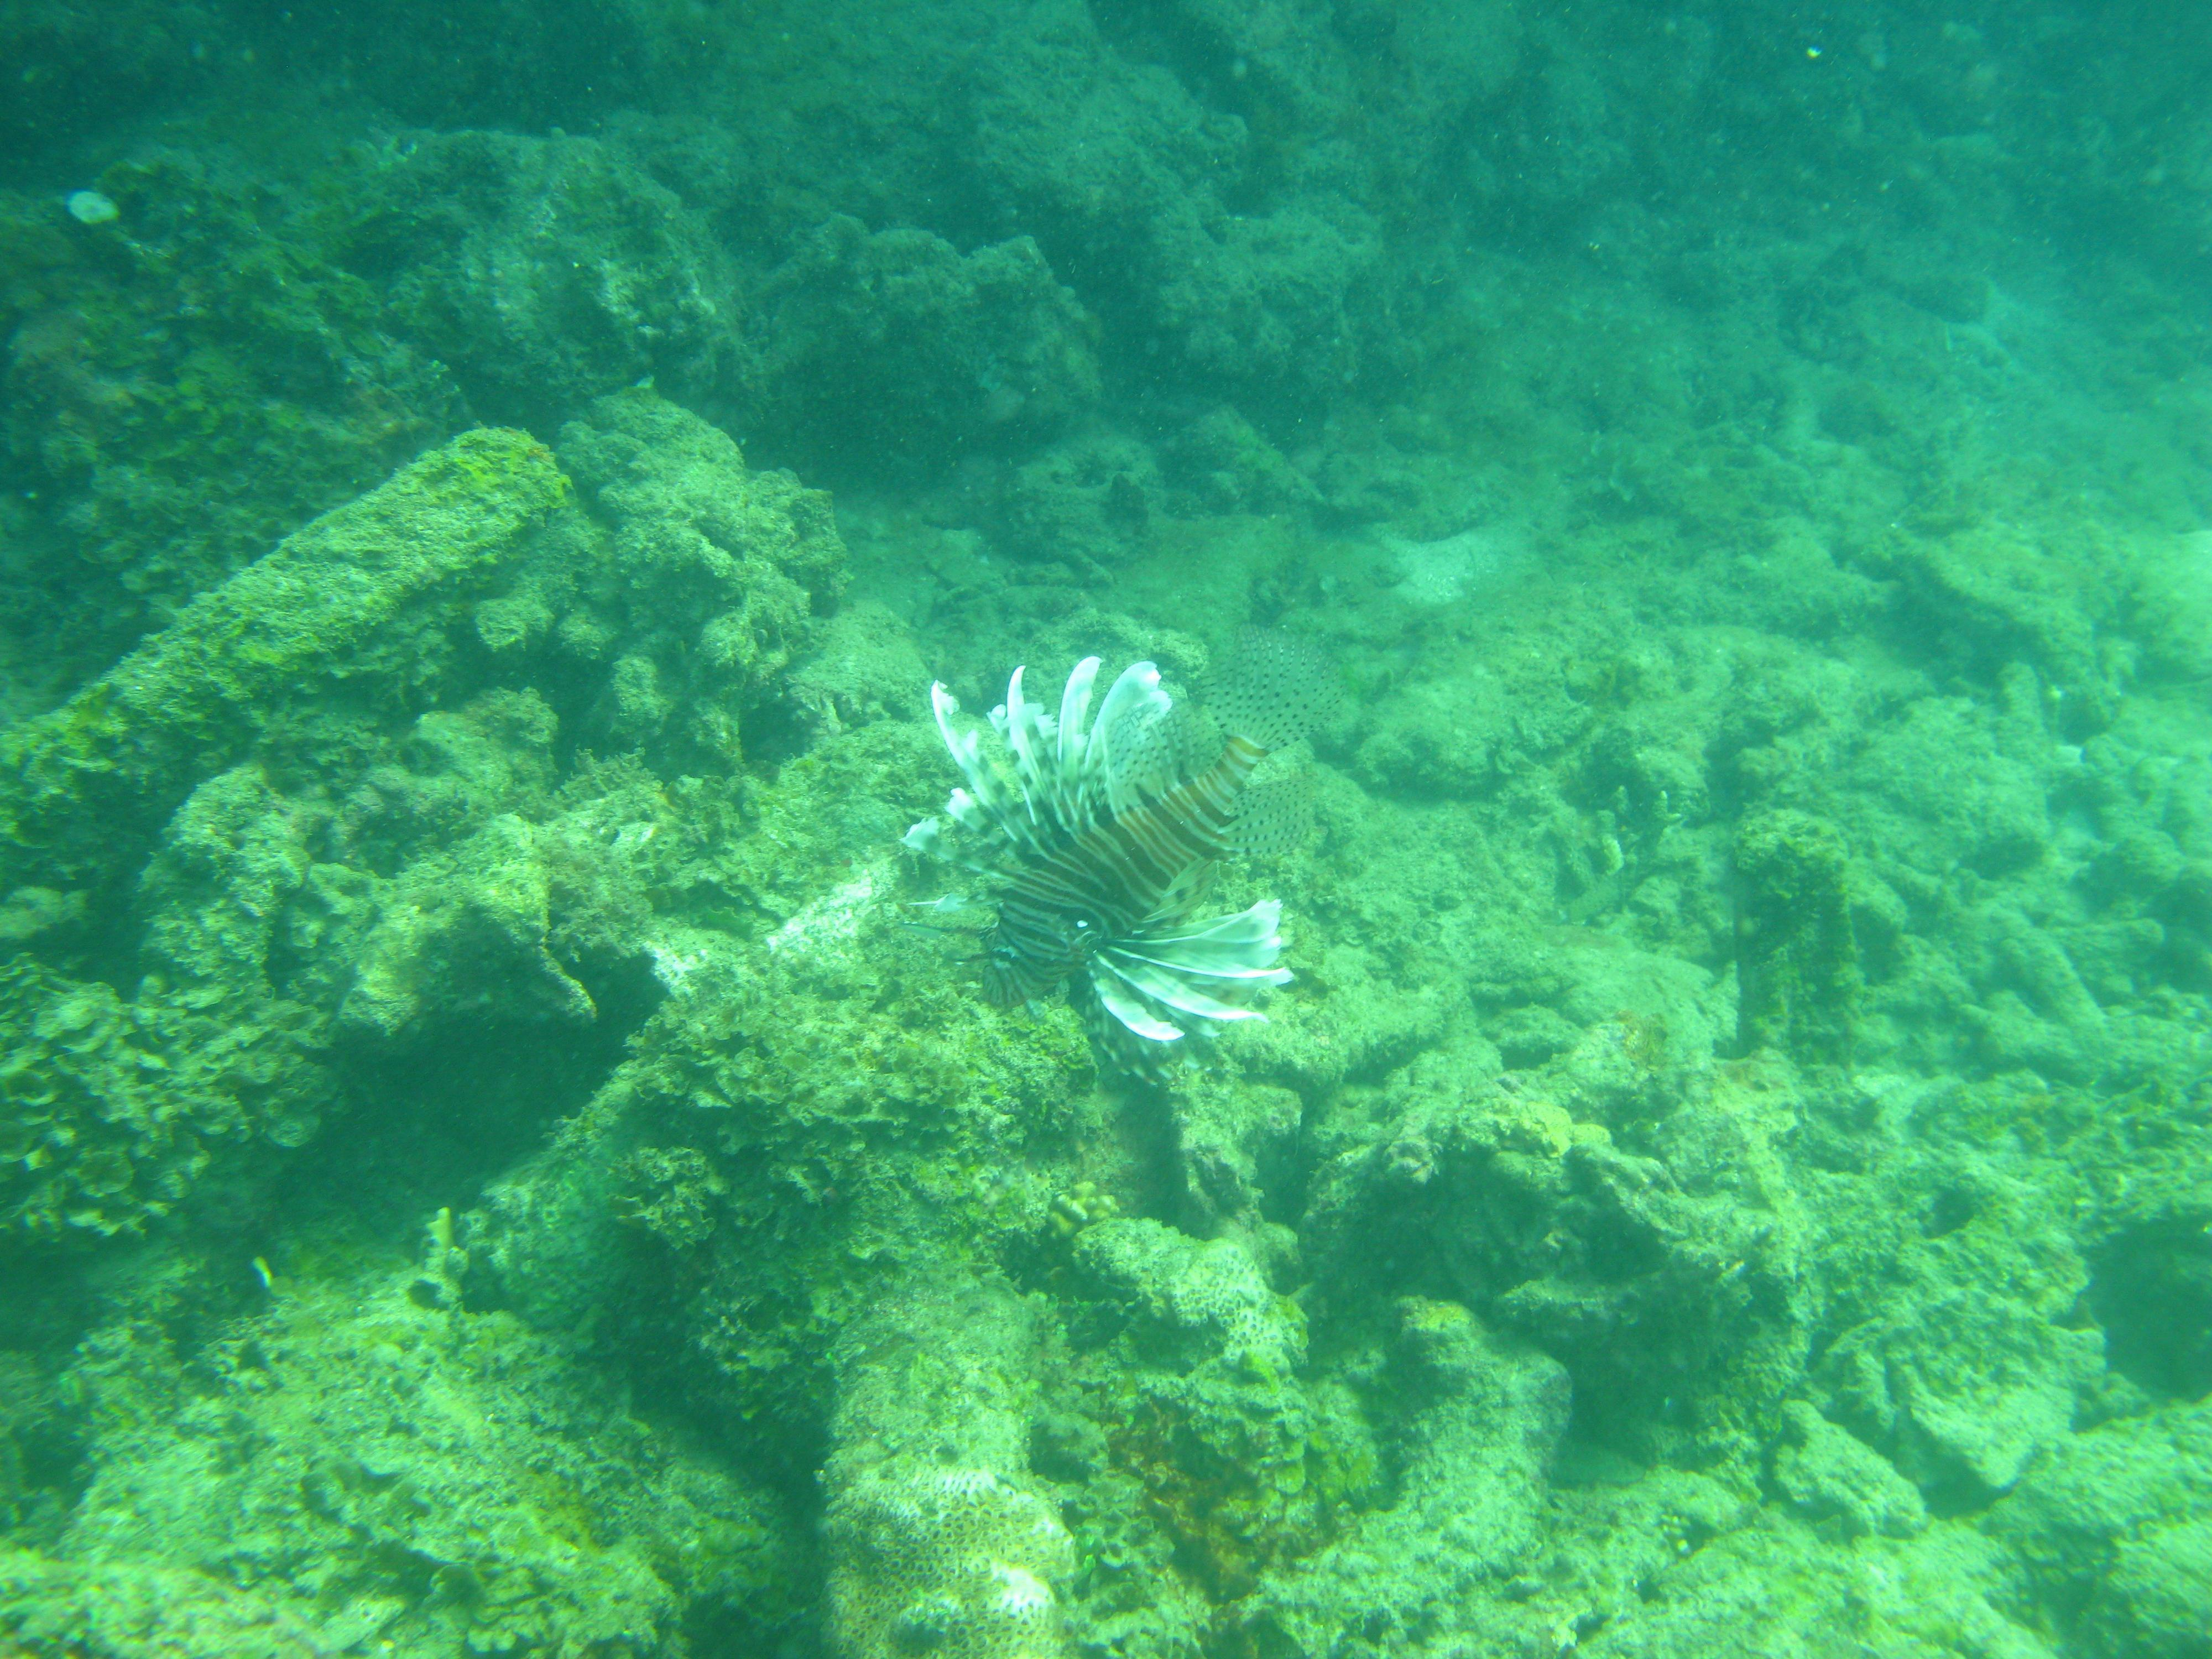Fish: (775, 631, 1308, 1100)
